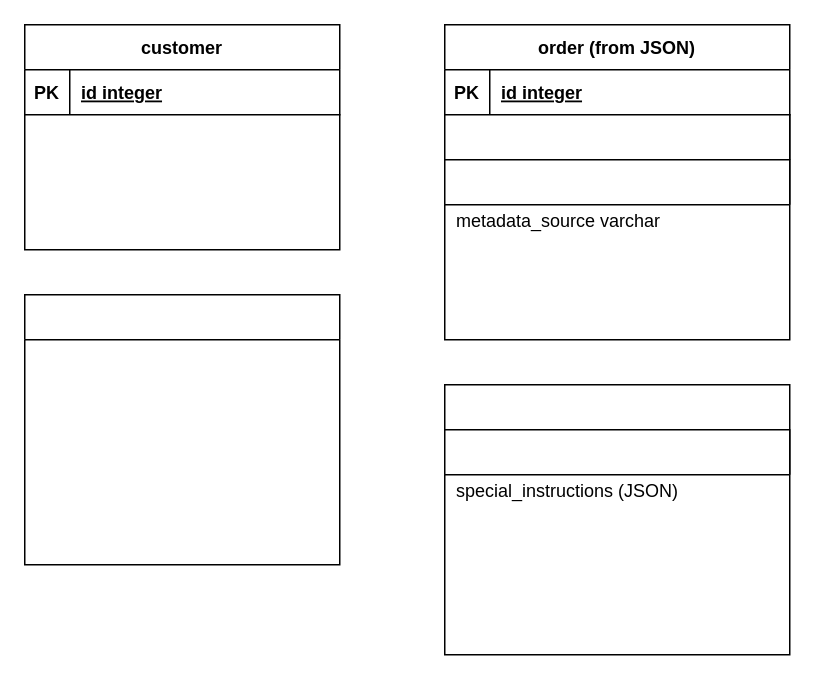
Some shapes in this 815 by 680 pixel diagram are drawn without their labels. The box of each missing label's shape, as (x1, y1, x2, y2) in pixels:
order_item (Flattened): (443, 383, 790, 655)
product: (23, 293, 340, 565)
